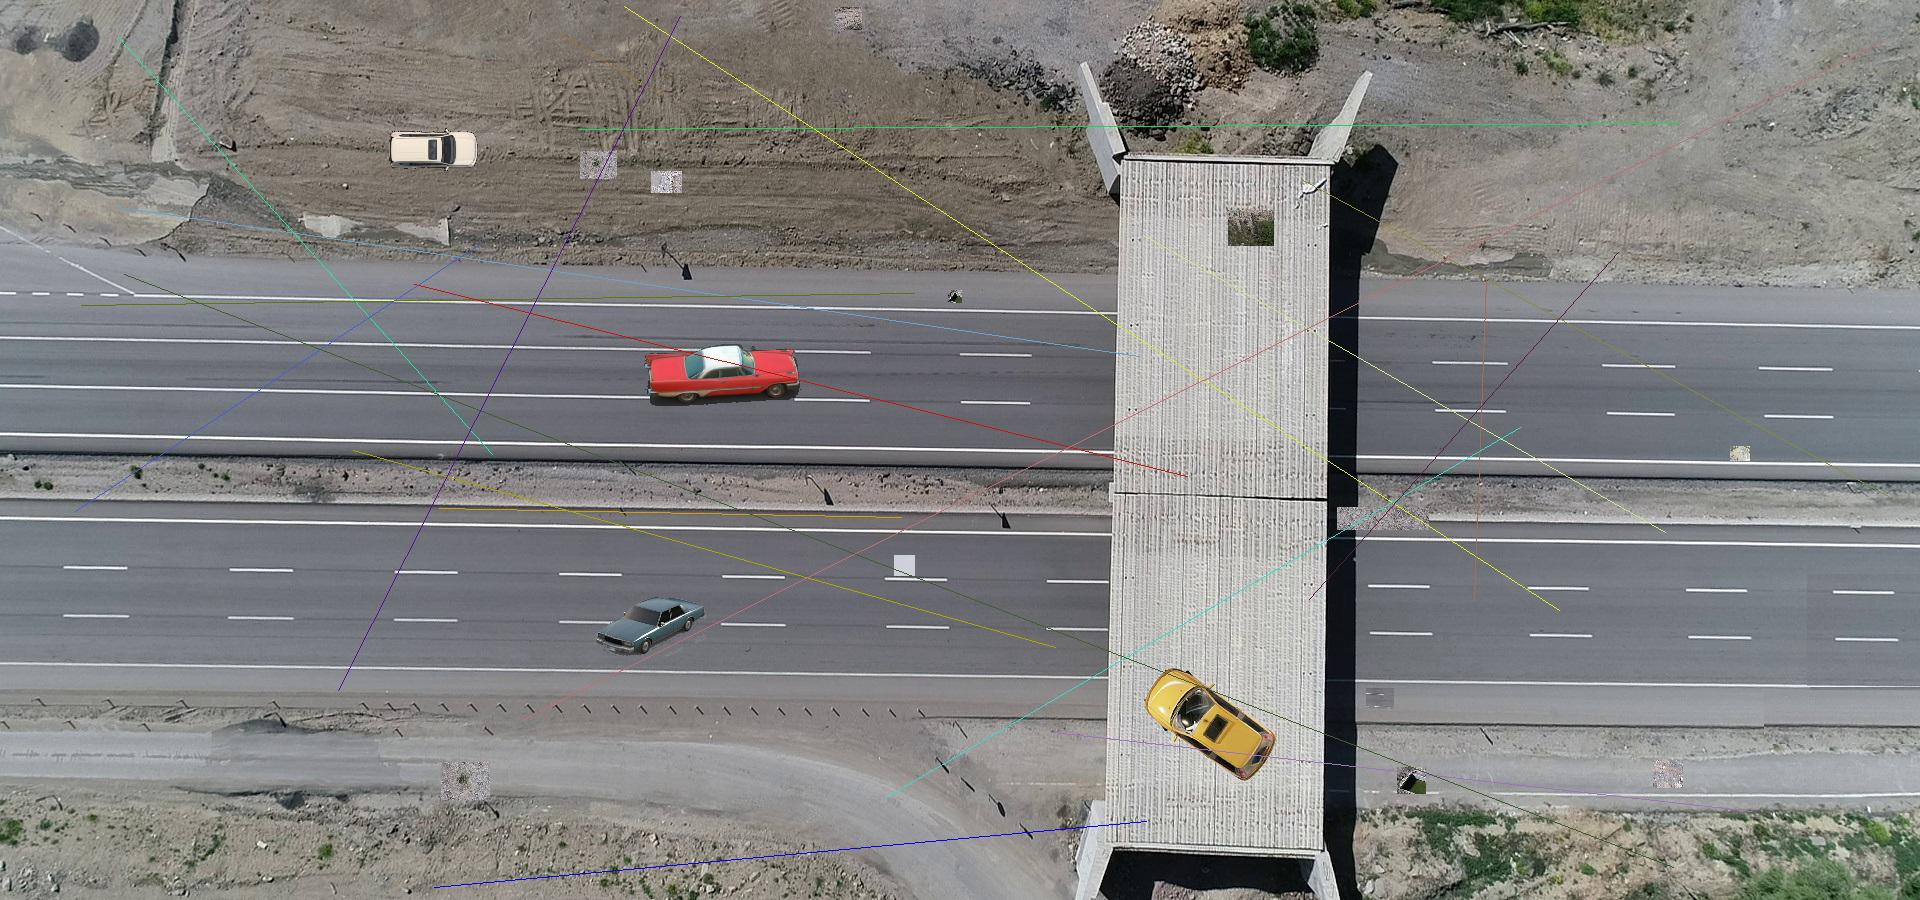arac: (1138, 662, 1278, 782), (644, 344, 801, 407), (596, 596, 707, 656), (386, 127, 482, 173)
